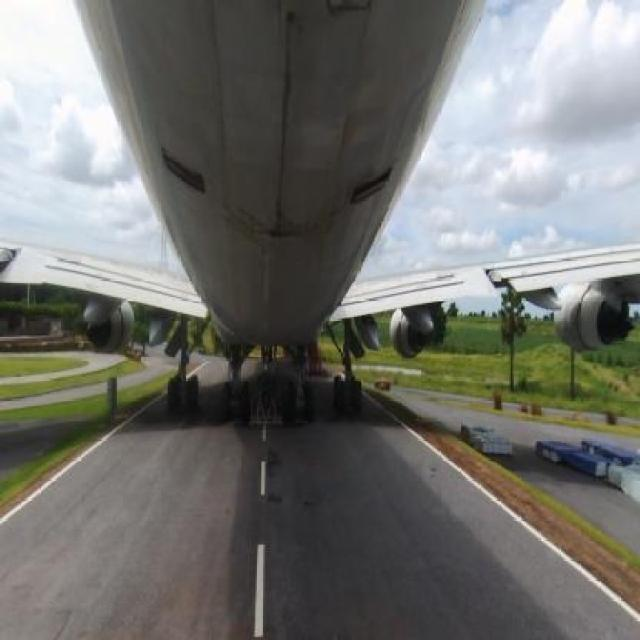Scartch: (263, 12, 305, 253)
